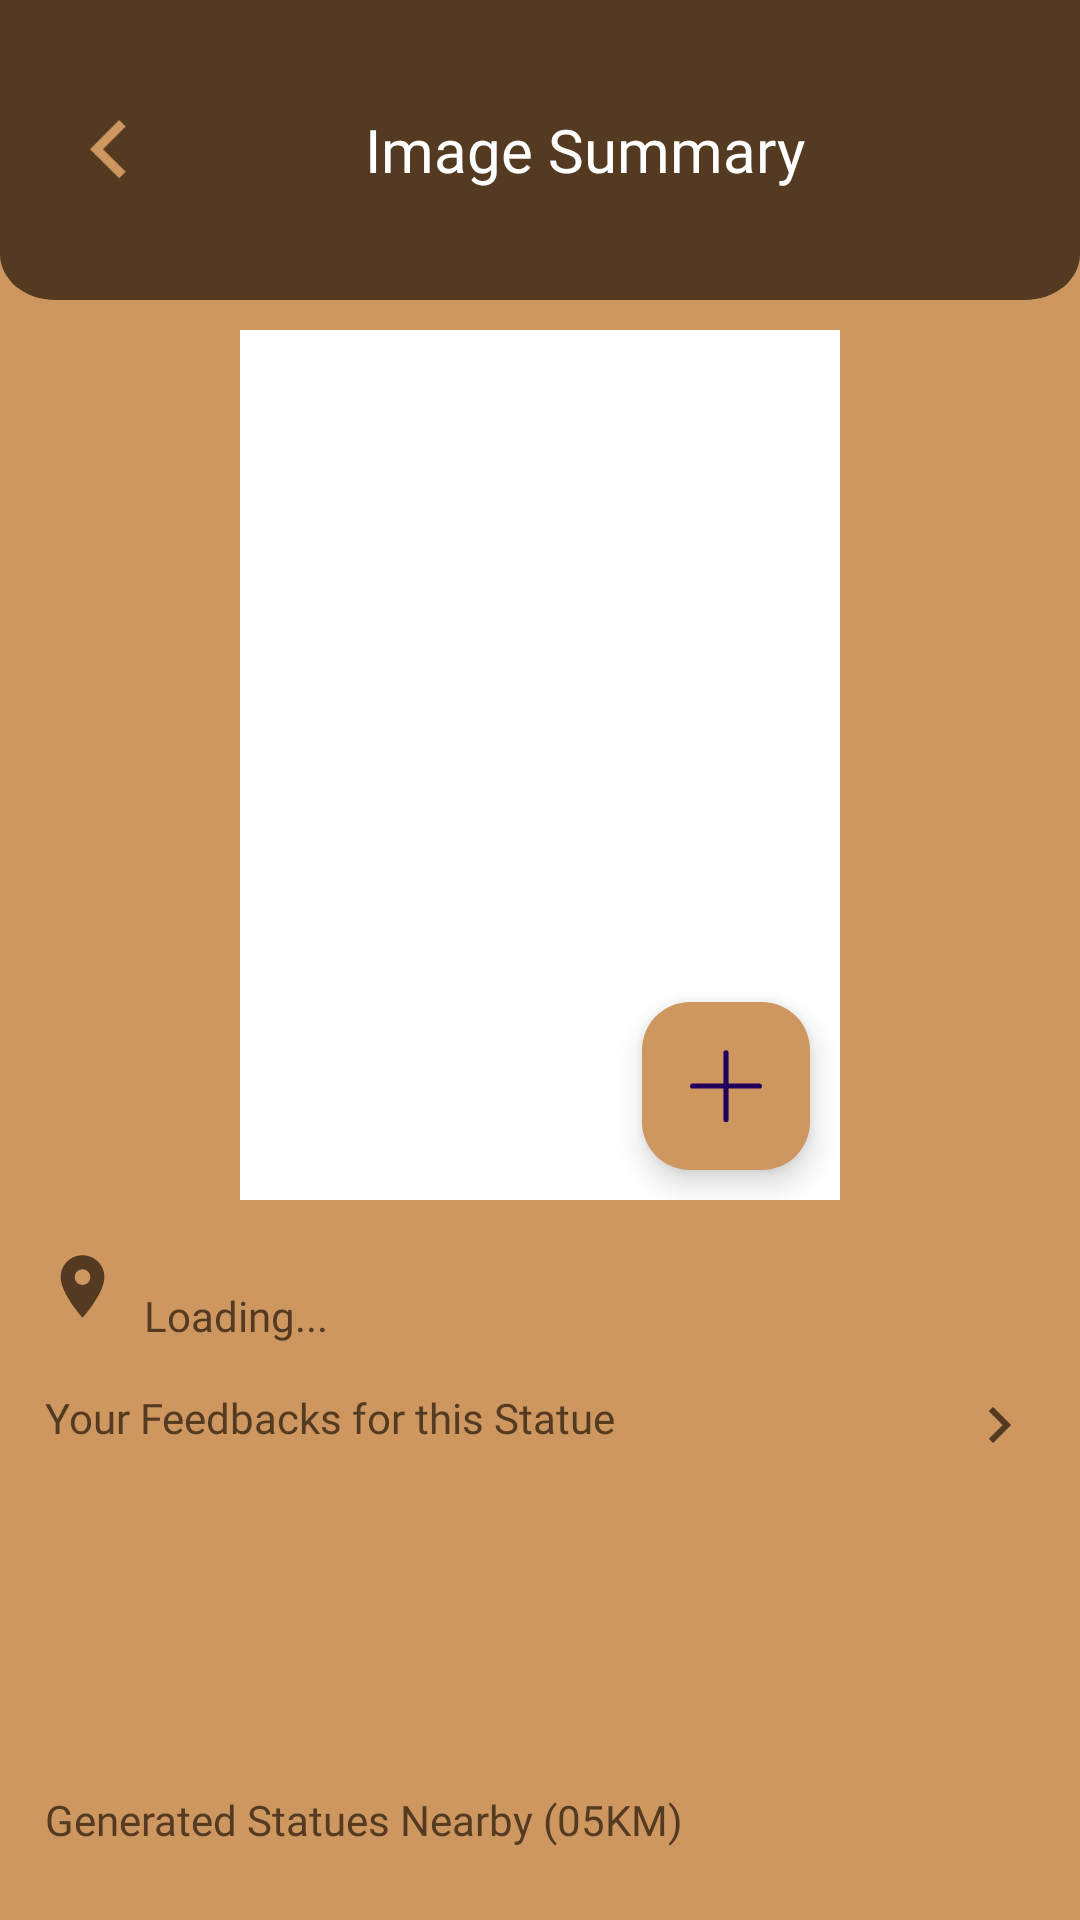

Icons on this 1080w x 1920h Android screen, each with its box as bbox(x1, y1, x2, y2):
addfeedback: bbox(642, 1002, 810, 1170)
arrow right: bbox(989, 1407, 1011, 1443)
back: bbox(90, 120, 126, 178)
location: bbox(60, 1255, 105, 1318)
